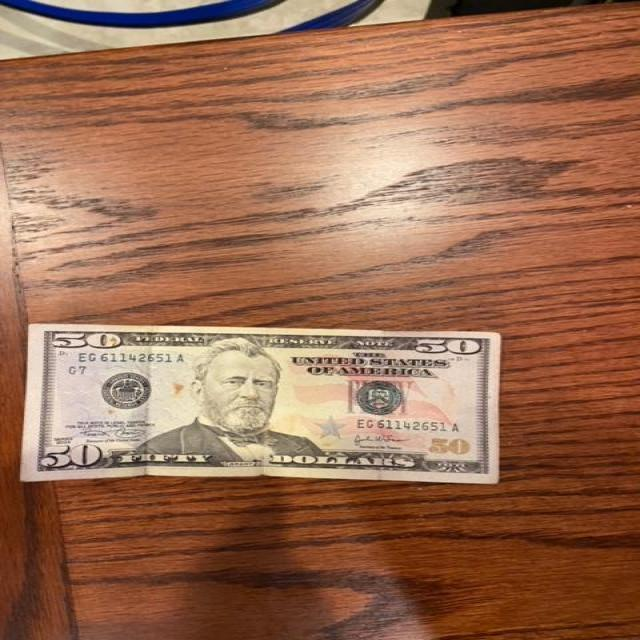50-Front: (19, 323, 501, 486)
